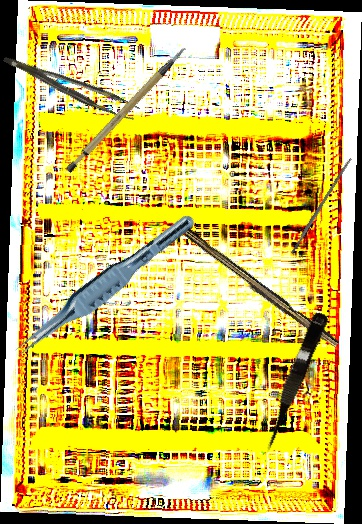Micro Scissor: (256, 309, 330, 456)
Scalpel Handle: (50, 45, 206, 176), (180, 228, 342, 351), (289, 156, 353, 255)
Tissue Forceps: (8, 202, 199, 369), (2, 40, 141, 129)
